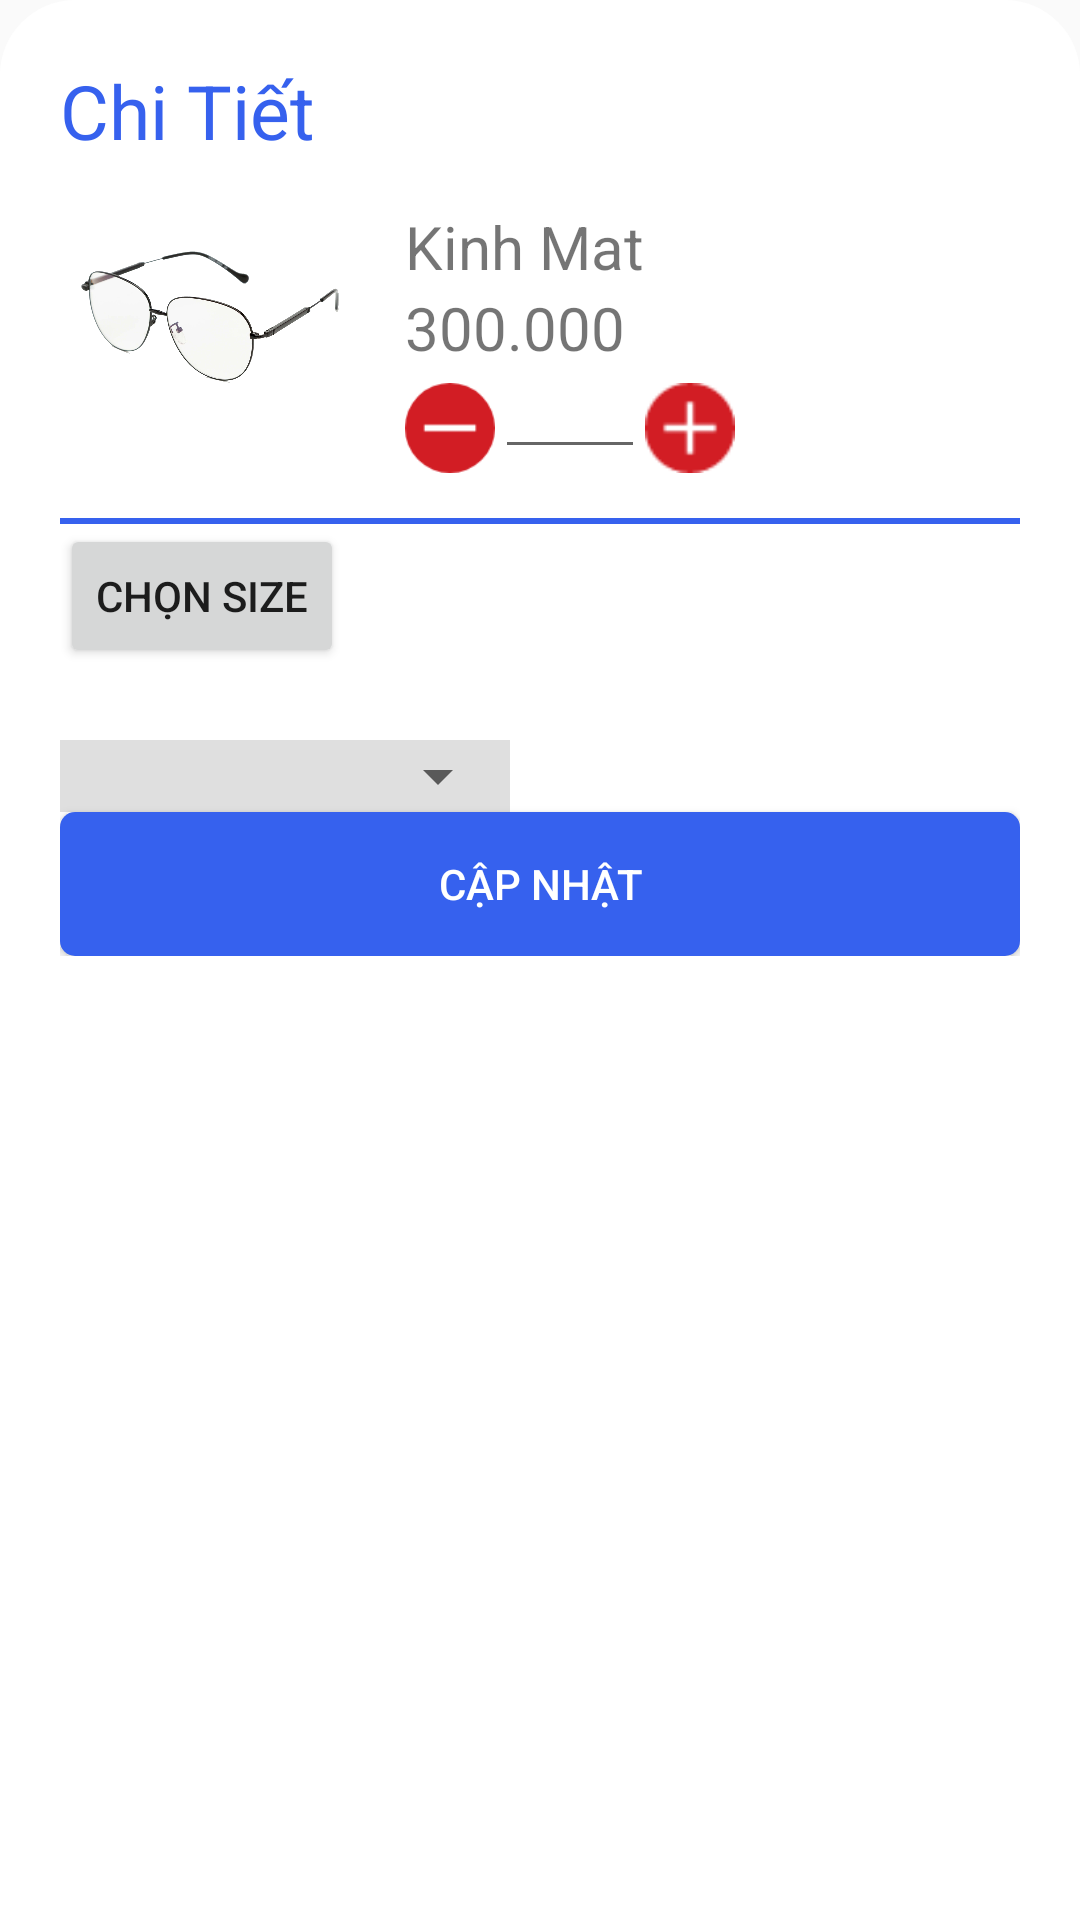

Screen size 1080 x 1920. Icon name, then its center in pixels as (x=x, y=y):
decrease: (x=450, y=428)
glasses: (x=210, y=317)
increase: (x=690, y=428)
